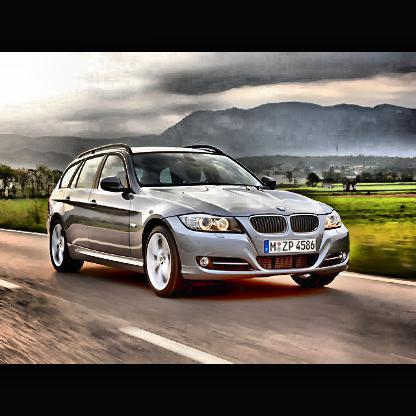BMW 3 Series Wagon 2012: (27, 131, 364, 331)
